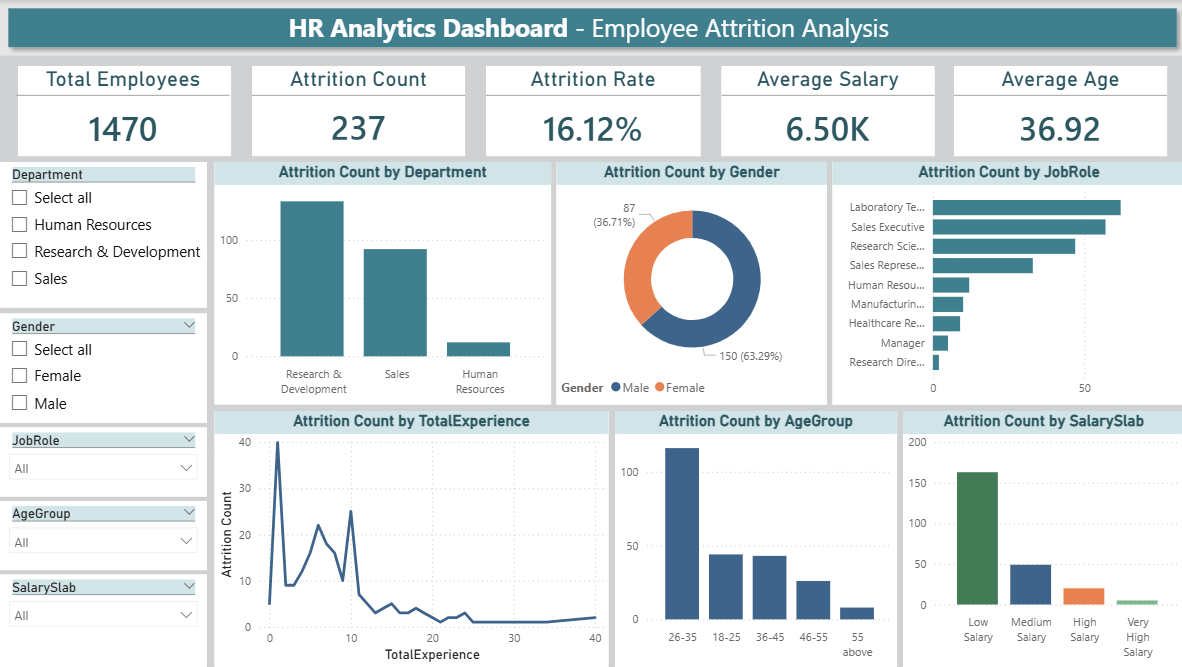

What the dashboard file says about the page in this screenshot:
{"tool":"powerbi","page":{"name":"Page 1","canvas":[1280,720],"ordinal":0},"visuals":[{"type":"shape","box":[525.5,71.3,230,97.5],"z":0},{"type":"shape","box":[272.2,71.3,230,97.5],"z":1000},{"type":"shape","box":[18.9,71.3,230,97.5],"z":2000},{"type":"shape","box":[778.8,72.9,229.9,95.5],"z":3000},{"type":"shape","box":[1030.5,71.3,230,97.5],"z":4000},{"type":"shape","box":[231.7,174.1,363.4,262],"z":5000},{"type":"shape","box":[897.9,174.1,381.6,262],"z":6000},{"type":"shape","box":[601.1,174.1,292.2,262],"z":7000},{"type":"shape","box":[663.7,443.9,304.2,276.6],"z":8000},{"type":"shape","box":[975.2,443.9,304.2,276.6],"z":9000},{"type":"shape","box":[231.7,443.7,425.5,277.1],"z":10000},{"type":"shape","box":[0,0,1279.2,59.9],"z":11000},{"type":"shape","box":[0,174.9,223.5,157.1],"z":12000},{"type":"shape","box":[0,338.4,223.5,118.2],"z":13000},{"type":"shape","box":[0,461.5,223.5,74.5],"z":14000},{"type":"cardVisual","title":"Total Employees","fields":{"Data":["Table1.Total Employees"]},"box":[18.2,71.2,230.2,98.4],"z":15000},{"type":"cardVisual","title":"Attrition Count","fields":{"Data":["Table1.Attrition Count"]},"box":[272.6,71.2,230.2,96.9],"z":16000},{"type":"cardVisual","title":"Attrition Rate","fields":{"Data":["Table1.Attrition Rate"]},"box":[524.6,71.2,231.5,97.2],"z":17000},{"type":"cardVisual","title":"Average Salary","fields":{"Data":["Table1.Average Salary"]},"box":[778.8,71.2,229.9,97.2],"z":18000},{"type":"cardVisual","title":"Average Age","fields":{"Data":["Table1.Average Age"]},"box":[1030.5,71.3,230,97.5],"z":19000},{"type":"columnChart","fields":{"Y":["Table1.Attrition Count"],"Category":["Table1.Department"]},"box":[231.7,175.6,363.4,260.4],"z":20000},{"type":"donutChart","fields":{"Y":["Table1.Attrition Count"],"Category":["Table1.Gender"]},"box":[601.1,174.1,292.2,262],"z":21000},{"type":"barChart","fields":{"Y":["Table1.Attrition Count"],"Category":["Table1.JobRole"]},"box":[897.9,174.1,381.6,262],"z":22000},{"type":"clusteredColumnChart","fields":{"Y":["Table1.Attrition Count"],"Category":["Table1.AgeGroup"]},"box":[663.2,443.7,304.4,275.6],"z":23000},{"type":"columnChart","fields":{"Y":["Table1.Attrition Count"],"Category":["Table1.SalarySlab"]},"box":[975.1,443.7,304.4,275.6],"z":24000},{"type":"lineChart","fields":{"Y":["Table1.Attrition Count"],"Category":["Table1.TotalExperience"]},"box":[231.7,443.7,425.5,275.6],"z":25000},{"type":"textbox","box":[100.4,6.5,1070.3,61.5],"z":26000},{"type":"slicer","fields":{"Values":["Table1.Department"]},"box":[0,174.9,223.5,157.1],"z":27000},{"type":"slicer","fields":{"Values":["Table1.Gender"]},"box":[0,338.4,223.5,118.2],"z":28000},{"type":"slicer","fields":{"Values":["Table1.JobRole"]},"box":[0,461.5,223.5,74.5],"z":29000},{"type":"shape","box":[0,540.8,223.5,74.5],"z":30000},{"type":"shape","box":[0,620.2,223.5,98.8],"z":31000},{"type":"slicer","fields":{"Values":["Table1.AgeGroup"]},"box":[0,540.8,223.5,74.5],"z":32000},{"type":"slicer","fields":{"Values":["Table1.SalarySlab"]},"box":[0,620.2,223.5,100.4],"z":33000}]}

Visuals, with their boxes in screenshot pixels (x1, y1, x2, y2), scaled from the page's 1280x720 canvas onto the 1182x667 screenshot:
shape: {"left": 485, "top": 66, "right": 698, "bottom": 156}
shape: {"left": 251, "top": 66, "right": 464, "bottom": 156}
shape: {"left": 17, "top": 66, "right": 230, "bottom": 156}
shape: {"left": 719, "top": 68, "right": 931, "bottom": 156}
shape: {"left": 952, "top": 66, "right": 1164, "bottom": 156}
shape: {"left": 214, "top": 161, "right": 550, "bottom": 404}
shape: {"left": 829, "top": 161, "right": 1181, "bottom": 404}
shape: {"left": 555, "top": 161, "right": 825, "bottom": 404}
shape: {"left": 613, "top": 411, "right": 894, "bottom": 666}
shape: {"left": 901, "top": 411, "right": 1181, "bottom": 666}
shape: {"left": 214, "top": 411, "right": 607, "bottom": 666}
shape: {"left": 0, "top": 0, "right": 1181, "bottom": 55}
shape: {"left": 0, "top": 162, "right": 206, "bottom": 308}
shape: {"left": 0, "top": 313, "right": 206, "bottom": 423}
shape: {"left": 0, "top": 428, "right": 206, "bottom": 497}
"Total Employees" cardVisual: {"left": 17, "top": 66, "right": 229, "bottom": 157}
"Attrition Count" cardVisual: {"left": 252, "top": 66, "right": 464, "bottom": 156}
"Attrition Rate" cardVisual: {"left": 484, "top": 66, "right": 698, "bottom": 156}
"Average Salary" cardVisual: {"left": 719, "top": 66, "right": 931, "bottom": 156}
"Average Age" cardVisual: {"left": 952, "top": 66, "right": 1164, "bottom": 156}
columnChart - Table1.Attrition Count x Table1.Department: {"left": 214, "top": 163, "right": 550, "bottom": 404}
donutChart - Table1.Attrition Count x Table1.Gender: {"left": 555, "top": 161, "right": 825, "bottom": 404}
barChart - Table1.Attrition Count x Table1.JobRole: {"left": 829, "top": 161, "right": 1181, "bottom": 404}
clusteredColumnChart - Table1.Attrition Count x Table1.AgeGroup: {"left": 612, "top": 411, "right": 894, "bottom": 666}
columnChart - Table1.Attrition Count x Table1.SalarySlab: {"left": 900, "top": 411, "right": 1181, "bottom": 666}
lineChart - Table1.Attrition Count x Table1.TotalExperience: {"left": 214, "top": 411, "right": 607, "bottom": 666}
textbox: {"left": 93, "top": 6, "right": 1081, "bottom": 63}
slicer - Table1.Department: {"left": 0, "top": 162, "right": 206, "bottom": 308}
slicer - Table1.Gender: {"left": 0, "top": 313, "right": 206, "bottom": 423}
slicer - Table1.JobRole: {"left": 0, "top": 428, "right": 206, "bottom": 497}
shape: {"left": 0, "top": 501, "right": 206, "bottom": 570}
shape: {"left": 0, "top": 575, "right": 206, "bottom": 666}
slicer - Table1.AgeGroup: {"left": 0, "top": 501, "right": 206, "bottom": 570}
slicer - Table1.SalarySlab: {"left": 0, "top": 575, "right": 206, "bottom": 666}
